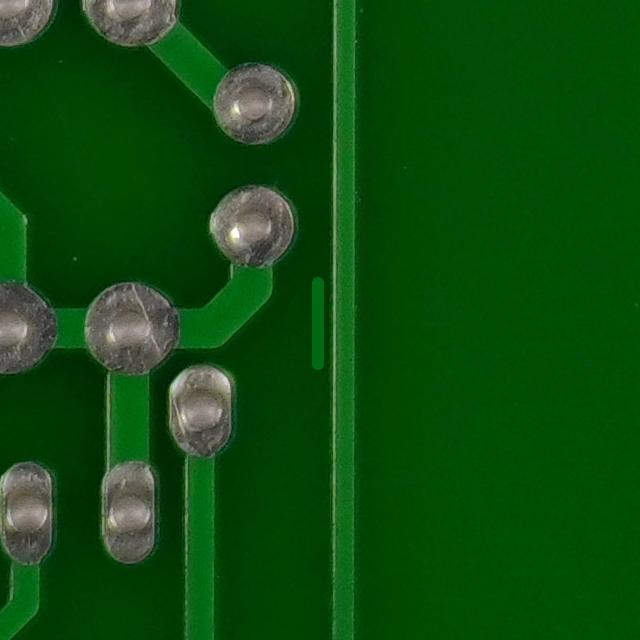spurious_copper: (294, 264, 346, 377)
